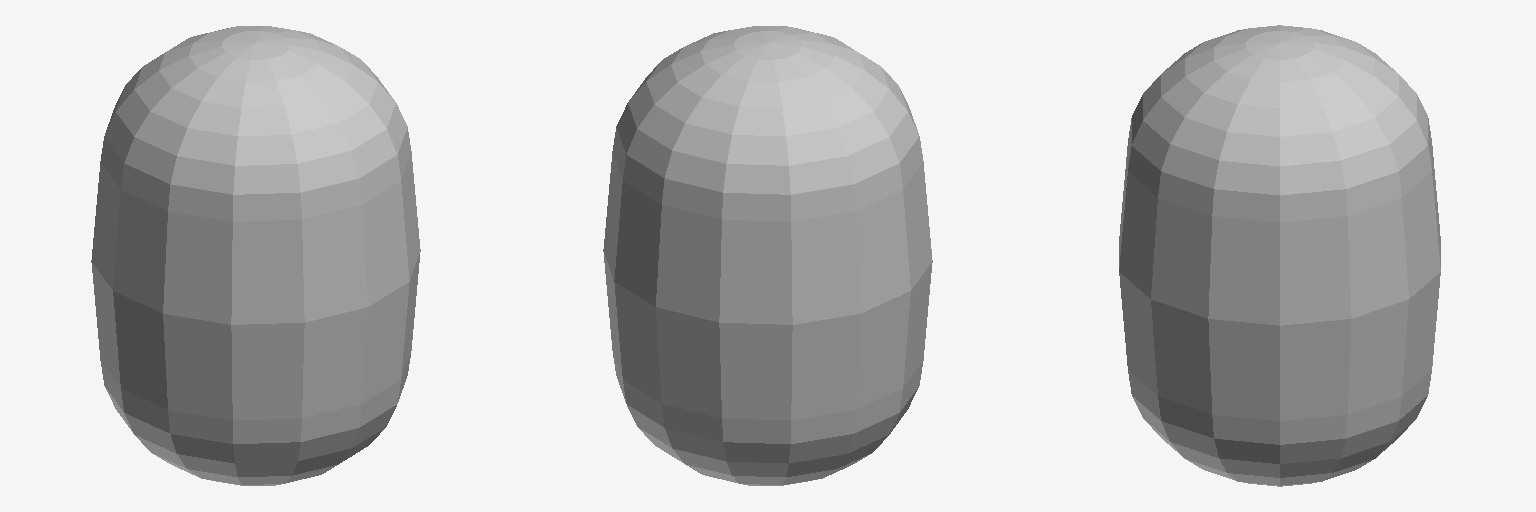
The model's file is KneePitch_1.obj.
3 views of the same model, side by side, from view 1: azimuth 30°, elevation 25°; view 2: azimuth 150°, elevation 25°; view 3: azimuth 270°, elevation 25° (orthographic).
Size of the model in its own units: 0.1297 by 0.185 by 0.1264.